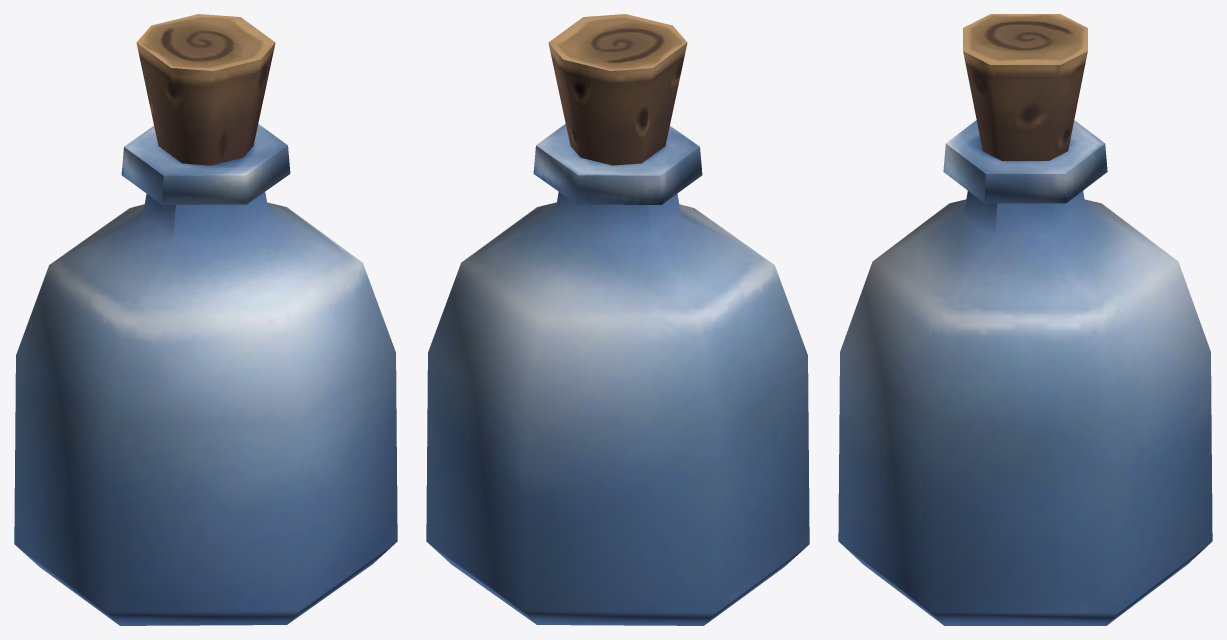
The model's file is Bottle_A.fbx.
The picture shows the model from 3 angles, left to right: view 1: azimuth 30°, elevation 25°; view 2: azimuth 150°, elevation 25°; view 3: azimuth 270°, elevation 25°; orthographic projection.
Parts seen in each view (by area): view 1: Geo_Bottle_A_Glass, Geo_Bottle_A_Cork; view 2: Geo_Bottle_A_Glass, Geo_Bottle_A_Cork; view 3: Geo_Bottle_A_Glass, Geo_Bottle_A_Cork.
Boxes of the visible parts, box(x1,y1,x2,y2) form: Geo_Bottle_A_Glass: box(14, 124, 397, 625); Geo_Bottle_A_Cork: box(136, 14, 275, 165); Geo_Bottle_A_Glass: box(426, 124, 809, 625); Geo_Bottle_A_Cork: box(548, 14, 687, 165); Geo_Bottle_A_Glass: box(838, 120, 1212, 625); Geo_Bottle_A_Cork: box(963, 14, 1087, 160).
Size of the model in its own units: 0.3649 by 0.6281 by 0.4059.
